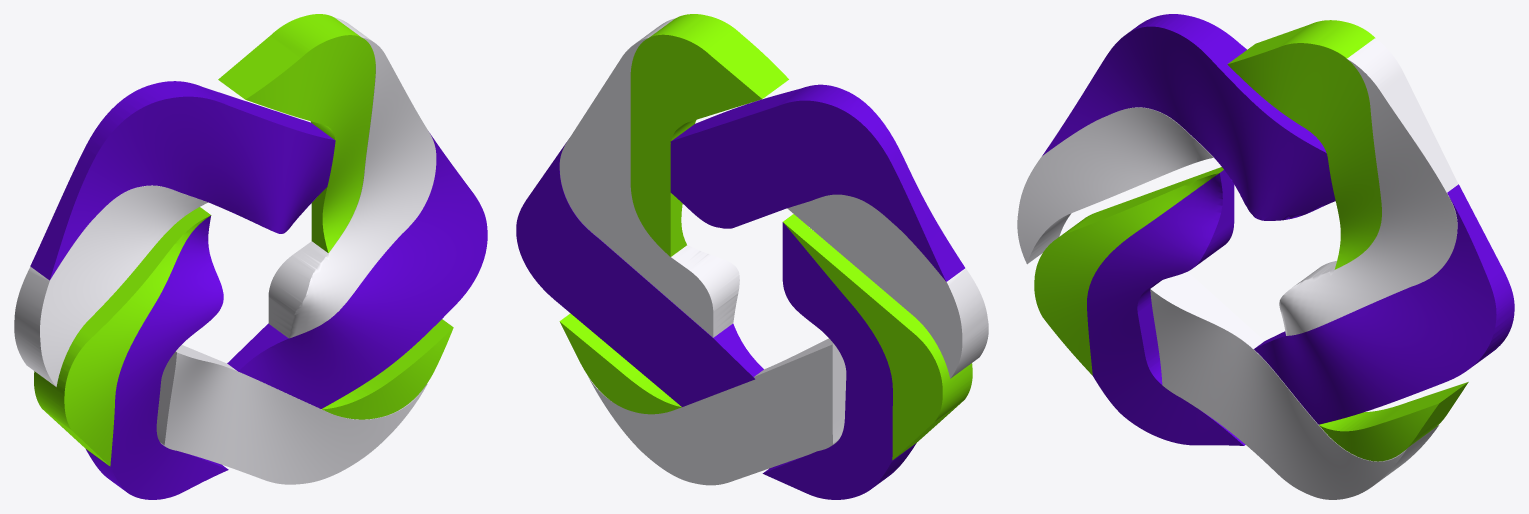
File: ai-model-claire.glb
The picture shows the model from 3 angles, left to right: view 1: azimuth 30°, elevation 25°; view 2: azimuth 150°, elevation 25°; view 3: azimuth 330°, elevation 25°; orthographic projection. The views are drawn at different scales.
Parts seen in each view (by area): view 1: scad-mesh0, scad-mesh4, scad-mesh8, scad-mesh3, scad-mesh2, scad-mesh6, scad-mesh1, scad-mesh5, scad-mesh7; view 2: scad-mesh0, scad-mesh4, scad-mesh8, scad-mesh2, scad-mesh3, scad-mesh6, scad-mesh1, scad-mesh5, scad-mesh7; view 3: scad-mesh4, scad-mesh0, scad-mesh8, scad-mesh3, scad-mesh6, scad-mesh2, scad-mesh1, scad-mesh5, scad-mesh7.
Boxes of the visible parts, bbox=[...] form: scad-mesh0: bbox=[30, 81, 335, 280]; scad-mesh4: bbox=[227, 133, 487, 408]; scad-mesh8: bbox=[156, 345, 427, 484]; scad-mesh3: bbox=[268, 17, 436, 338]; scad-mesh2: bbox=[218, 14, 375, 252]; scad-mesh6: bbox=[86, 215, 228, 499]; scad-mesh1: bbox=[14, 185, 208, 386]; scad-mesh5: bbox=[34, 207, 210, 466]; scad-mesh7: bbox=[321, 319, 453, 419]; scad-mesh0: bbox=[670, 84, 964, 281]; scad-mesh4: bbox=[516, 142, 763, 406]; scad-mesh8: bbox=[588, 338, 846, 485]; scad-mesh2: bbox=[630, 14, 788, 256]; scad-mesh3: bbox=[559, 18, 739, 337]; scad-mesh6: bbox=[762, 222, 916, 499]; scad-mesh1: bbox=[787, 194, 988, 378]; scad-mesh5: bbox=[783, 214, 972, 460]; scad-mesh7: bbox=[559, 313, 681, 414]; scad-mesh4: bbox=[1254, 184, 1514, 424]; scad-mesh0: bbox=[1042, 14, 1335, 220]; scad-mesh8: bbox=[1150, 271, 1438, 499]; scad-mesh3: bbox=[1279, 38, 1458, 335]; scad-mesh6: bbox=[1087, 170, 1245, 445]; scad-mesh2: bbox=[1227, 20, 1381, 269]; scad-mesh1: bbox=[1017, 107, 1213, 264]; scad-mesh5: bbox=[1034, 167, 1223, 375]; scad-mesh7: bbox=[1319, 382, 1468, 461].
Bounding box in the file's own units: 240 × 227 × 28.18.
